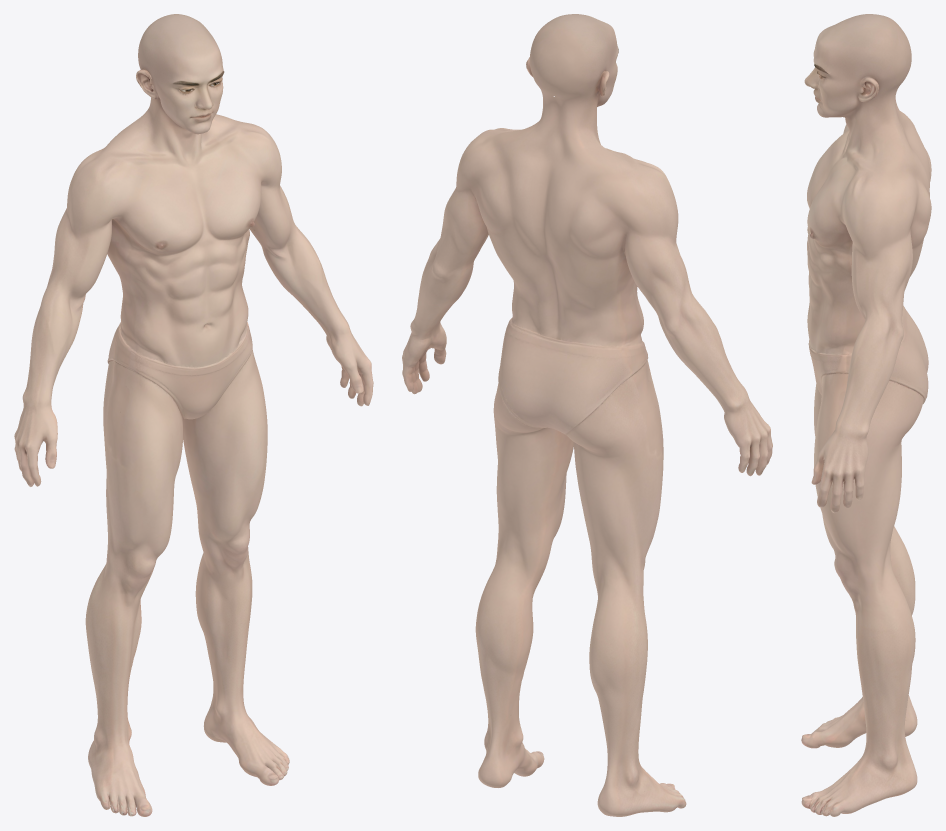
The model's file is t4_m_preview.glb.
3 renders of one model, left to right at view 1: azimuth 30°, elevation 25°; view 2: azimuth 150°, elevation 25°; view 3: azimuth 270°, elevation 25°, orthographic. The views are drawn at different scales.
Visible parts, largest first — view 1: tripo_node_4576e43e-cca8-48fe-9b0e-3d28e368366b; view 2: tripo_node_4576e43e-cca8-48fe-9b0e-3d28e368366b; view 3: tripo_node_4576e43e-cca8-48fe-9b0e-3d28e368366b.
Boxes of the visible parts, x1,y1,x2,y2 form: tripo_node_4576e43e-cca8-48fe-9b0e-3d28e368366b: [14, 14, 373, 816]; tripo_node_4576e43e-cca8-48fe-9b0e-3d28e368366b: [402, 14, 772, 816]; tripo_node_4576e43e-cca8-48fe-9b0e-3d28e368366b: [801, 14, 931, 816].
Bounding box in the file's own units: 0.4702 × 0.9793 × 0.1519.
Materials: 1 (1 with a texture image).
